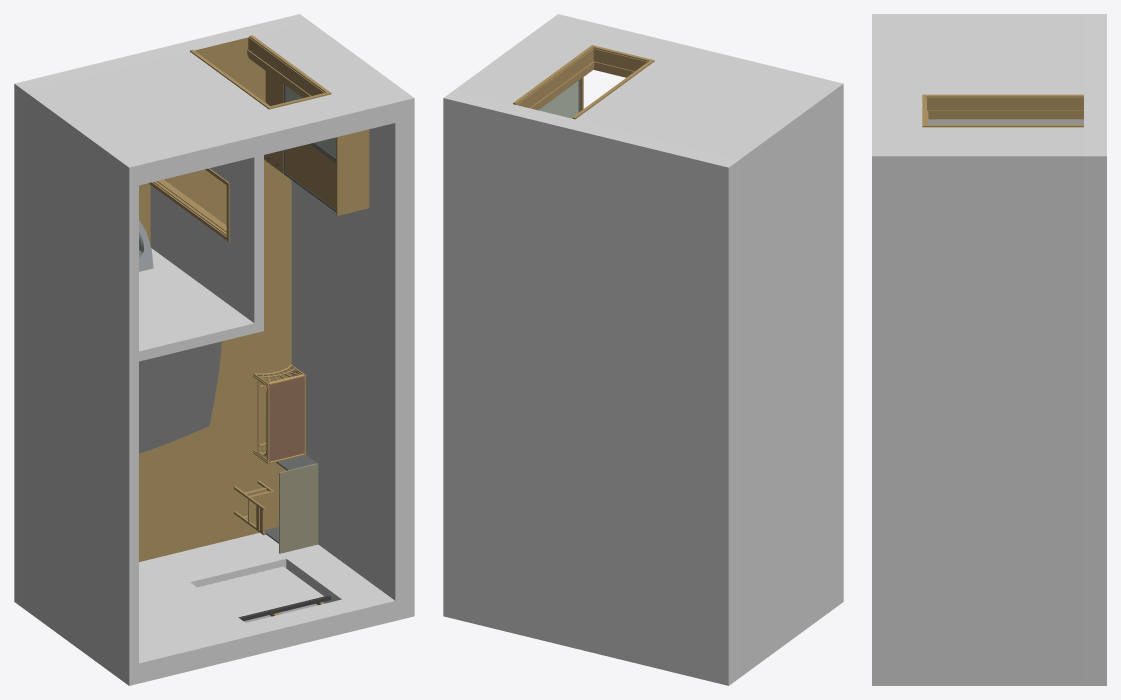
File: hotl-honey.fbx
The picture shows the model from 3 angles, left to right: view 1: azimuth 30°, elevation 25°; view 2: azimuth 150°, elevation 25°; view 3: azimuth 270°, elevation 25°; orthographic projection. The views are drawn at different scales.
Visible parts, largest first — view 1: 98:1:1, 89:1:1, 101:1:1, 55:1:8, 78:1:1, 89:2:1, 91:1:1, 55:1:8_2, 92:1:1, Object_3, 58:2:6, 38:2:6_2 (+6 smaller); view 2: 55:1:8_2, 89:1:1, 101:1:1, 89:2:1, 78:1:1, 100:1:5, 92:1:1, 37:21:6; view 3: 98:1:1, 101:1:1, 55:1:8_2, 100:1:5, 100:8:5, 91:1:1, 100:3:5, 100:2:5.
Part boxes in pixels (bbox=[...]): 98:1:1: bbox=[291, 118, 414, 615]; 89:1:1: bbox=[25, 288, 138, 665]; 101:1:1: bbox=[25, 22, 414, 187]; 55:1:8: bbox=[139, 37, 291, 561]; 78:1:1: bbox=[25, 532, 413, 685]; 89:2:1: bbox=[25, 112, 138, 353]; 91:1:1: bbox=[150, 155, 263, 330]; 55:1:8_2: bbox=[14, 14, 310, 609]; 92:1:1: bbox=[25, 248, 263, 363]; Object_3: bbox=[139, 341, 221, 453]; 58:2:6: bbox=[197, 566, 323, 617]; 38:2:6_2: bbox=[279, 463, 318, 553]; 55:1:8_2: bbox=[443, 90, 739, 685]; 89:1:1: bbox=[740, 280, 843, 657]; 101:1:1: bbox=[455, 14, 843, 179]; 89:2:1: bbox=[740, 104, 843, 345]; 78:1:1: bbox=[740, 582, 843, 677]; 100:1:5: bbox=[516, 48, 647, 118]; 92:1:1: bbox=[740, 270, 843, 355]; 37:21:6: bbox=[538, 81, 578, 118]; 98:1:1: bbox=[872, 177, 1083, 685]; 101:1:1: bbox=[872, 14, 1083, 176]; 55:1:8_2: bbox=[1084, 14, 1106, 685]; 100:1:5: bbox=[926, 97, 1083, 124]; 100:8:5: bbox=[928, 110, 1083, 118]; 91:1:1: bbox=[928, 119, 1083, 124]; 100:3:5: bbox=[922, 124, 1083, 127]; 100:2:5: bbox=[923, 94, 1083, 97].
Size of the model in its own units: 4.45 by 7.74 by 3.1.
